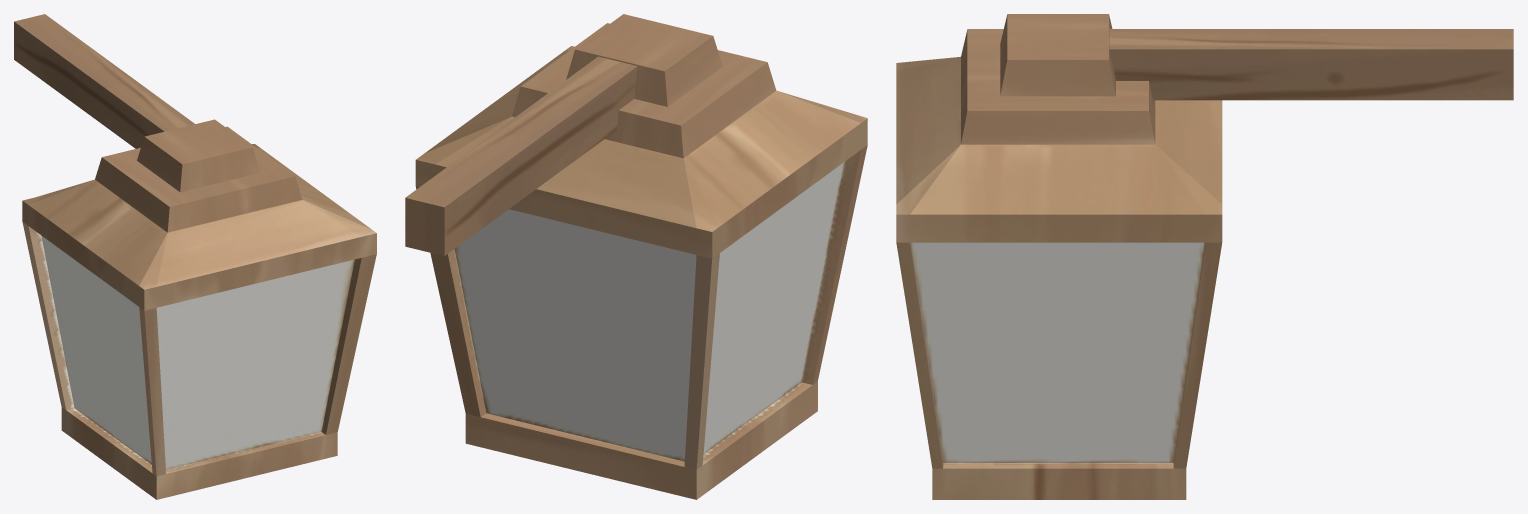
File: Lantern.fbx
3 views of the same model, side by side, from view 1: azimuth 30°, elevation 25°; view 2: azimuth 150°, elevation 25°; view 3: azimuth 270°, elevation 25° (orthographic). The views are drawn at different scales.
Parts seen in each view (by area): view 1: lantern; view 2: lantern; view 3: lantern.
Boxes of the visible parts, x1,y1,x2,y2 form: lantern: [14, 14, 376, 499]; lantern: [405, 14, 867, 499]; lantern: [896, 14, 1513, 499].
Bounding box in the file's own units: 0.3289 × 0.408 × 0.5663.
